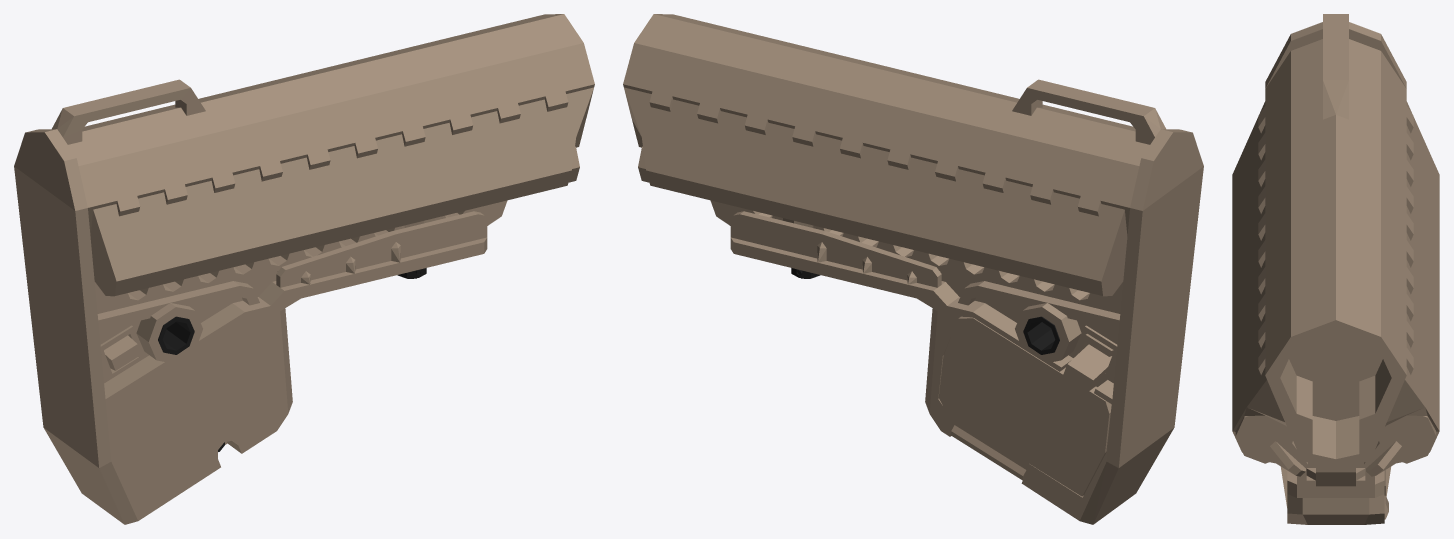
Rendered from bcm_mk_12_a5_stock.glb.
The picture shows the model from 3 angles, left to right: view 1: azimuth 30°, elevation 25°; view 2: azimuth 150°, elevation 25°; view 3: azimuth 270°, elevation 25°; orthographic projection. The views are drawn at different scales.
Visible parts, largest first — view 1: mk12a5 stock_10 (×2); view 2: mk12a5 stock_10 (×2); view 3: mk12a5 stock_10.
Part boxes in pixels (<box>): mk12a5 stock_10 (×2): <box>14,14,594,524</box>; mk12a5 stock_10 (×2): <box>623,14,1203,524</box>; mk12a5 stock_10: <box>1232,14,1439,524</box>.
Bounding box in the file's own units: 1.84 × 1.38 × 0.5509.
